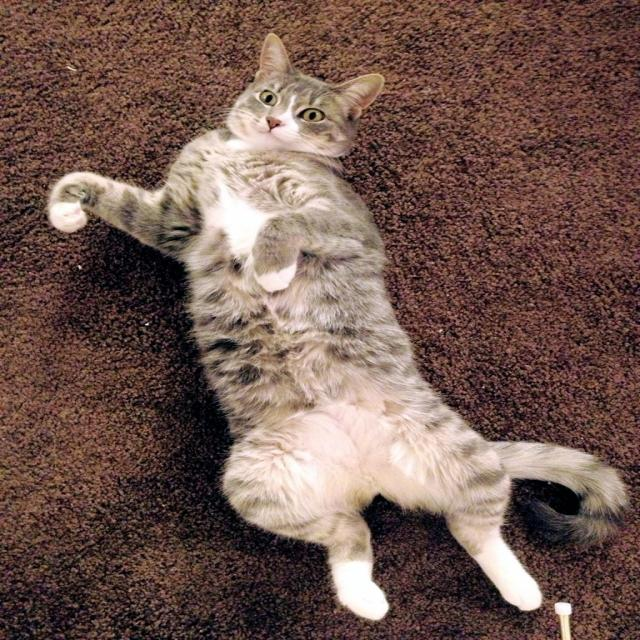Cat: (48, 33, 631, 622)
